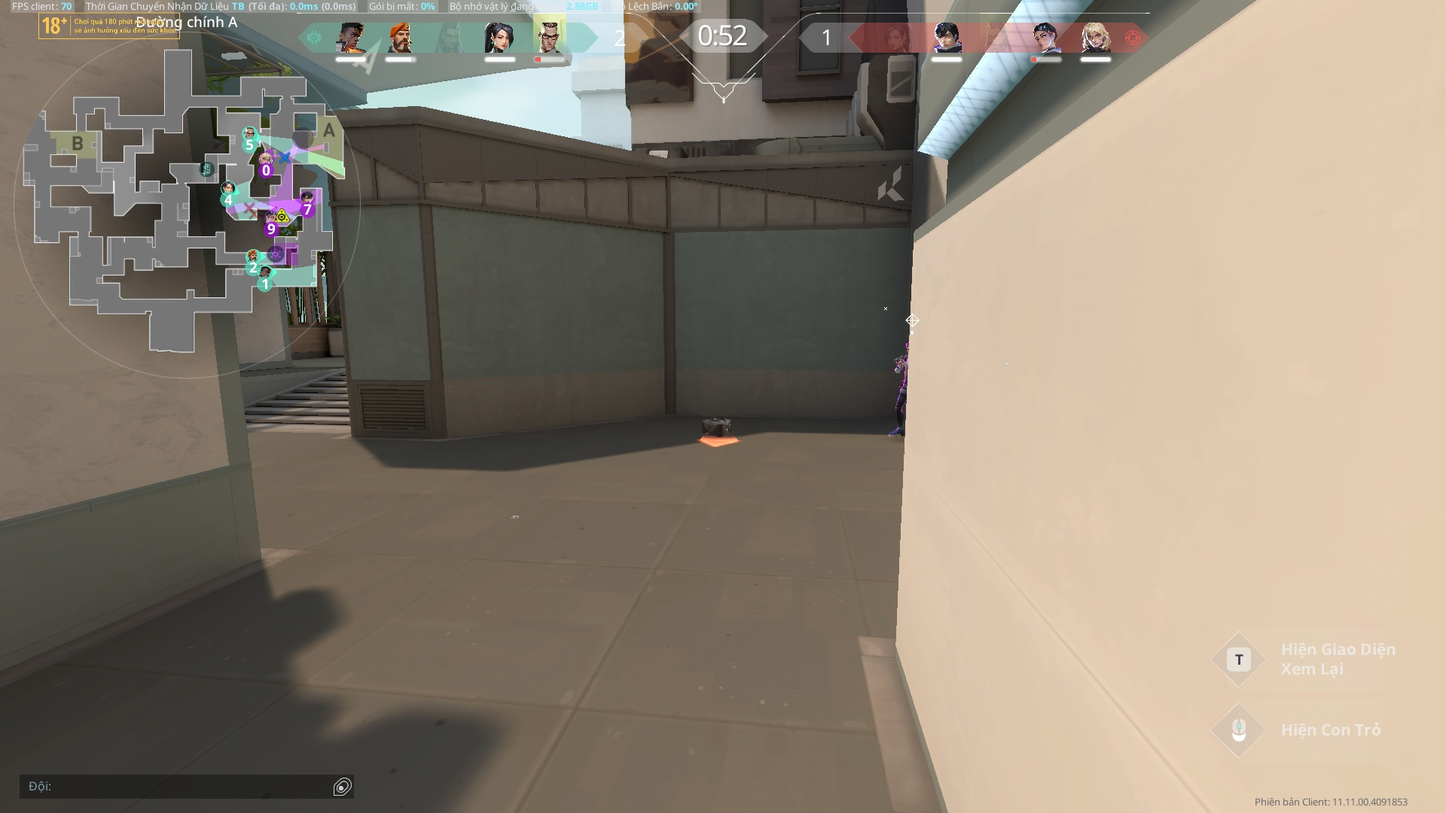body: (895, 353, 907, 388)
head: (904, 339, 909, 354)
